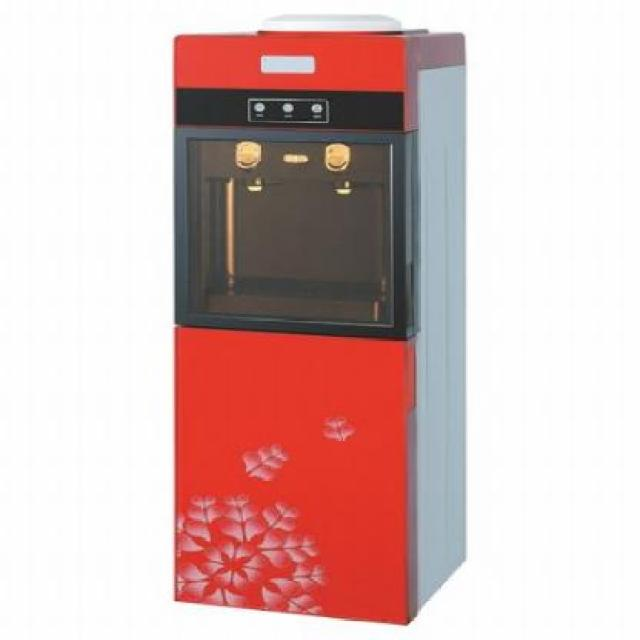cooler: (168, 9, 467, 628)
